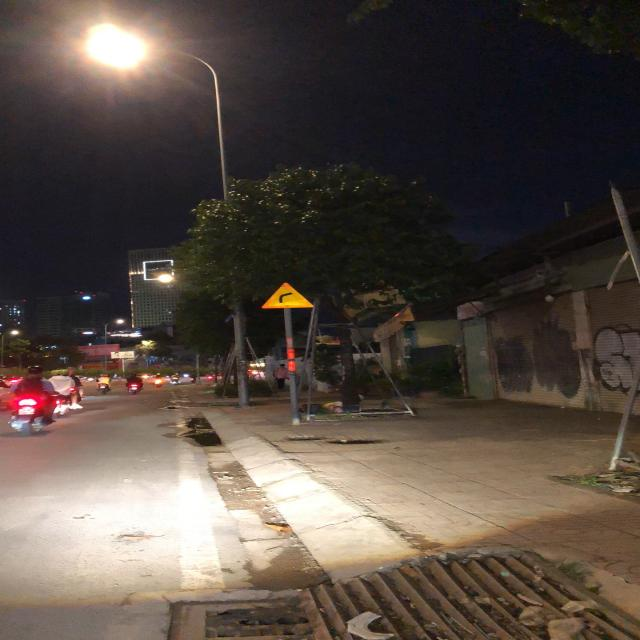Bien bao cho ngoat nguy hiem: (258, 280, 314, 314)
